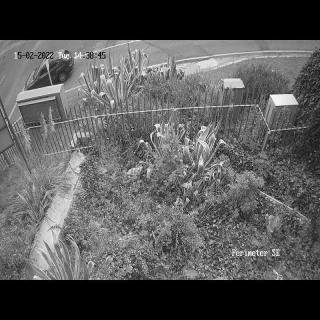car: (24, 49, 75, 90)
